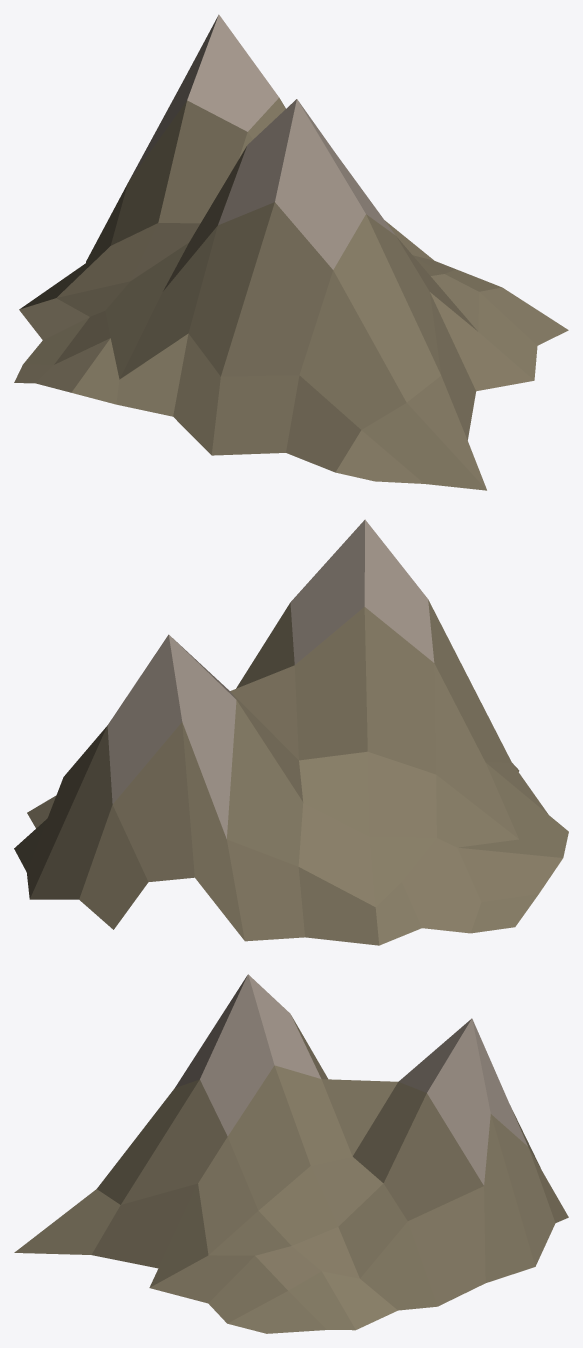
The model's file is mountain.obj.
The picture shows the model from 3 angles, top to bottom: view 1: azimuth 30°, elevation 25°; view 2: azimuth 150°, elevation 25°; view 3: azimuth 270°, elevation 25°; orthographic projection. The views are drawn at different scales.
Parts seen in each view (by area): view 1: Plane.001; view 2: Plane.001; view 3: Plane.001.
Part boxes in pixels (x1=…): Plane.001: x1=14, y1=14, x2=568, y2=490; Plane.001: x1=14, y1=519, x2=568, y2=945; Plane.001: x1=14, y1=974, x2=568, y2=1333.
Size of the model in its own units: 41.87 by 25.67 by 50.19.
